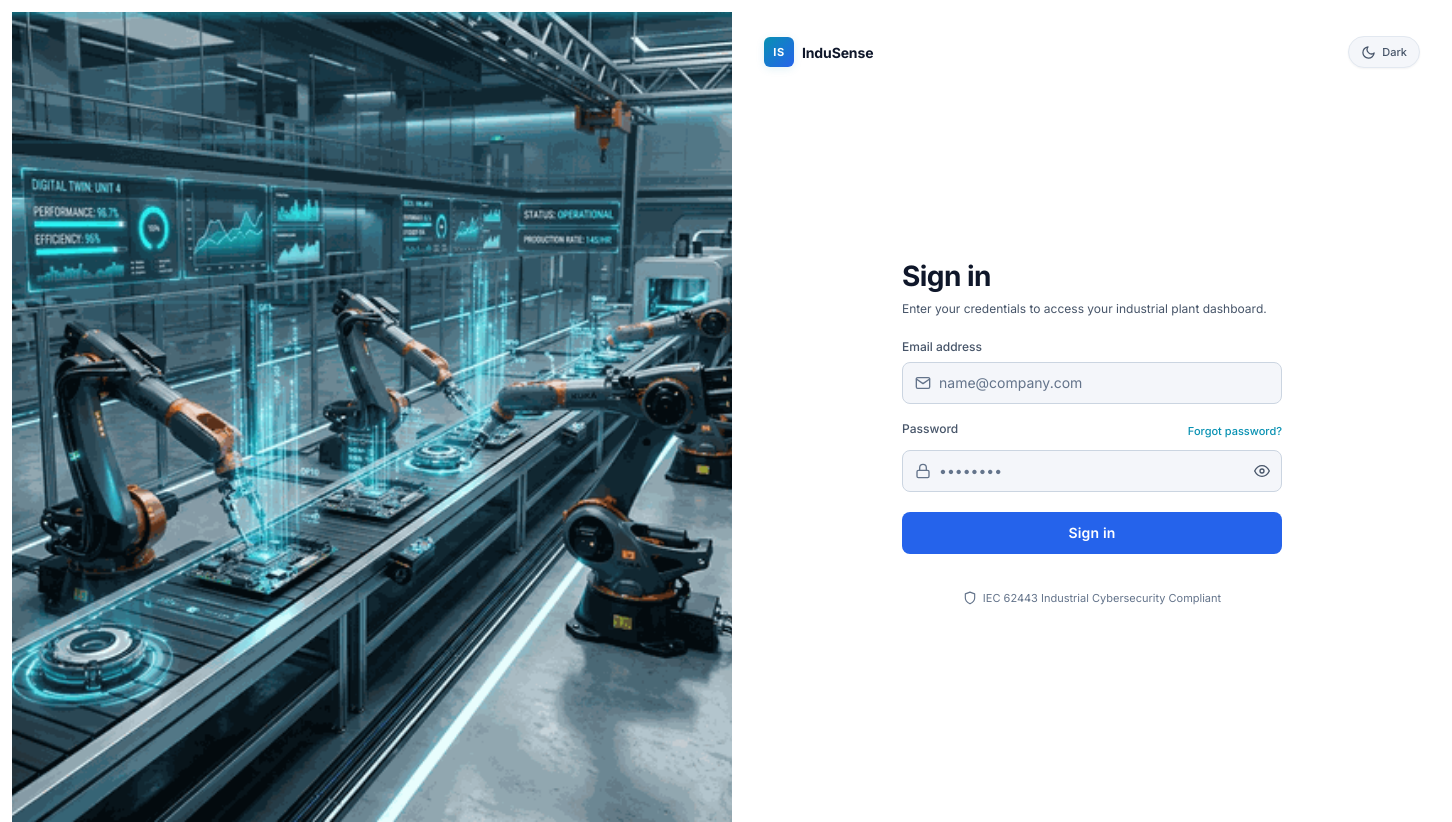
Test: LoginPageComponent › rejects a malformed email
Type "not-an-email" into the field with id "login-email". click: coordinates (1106, 382)
box: [931, 362, 1281, 402]
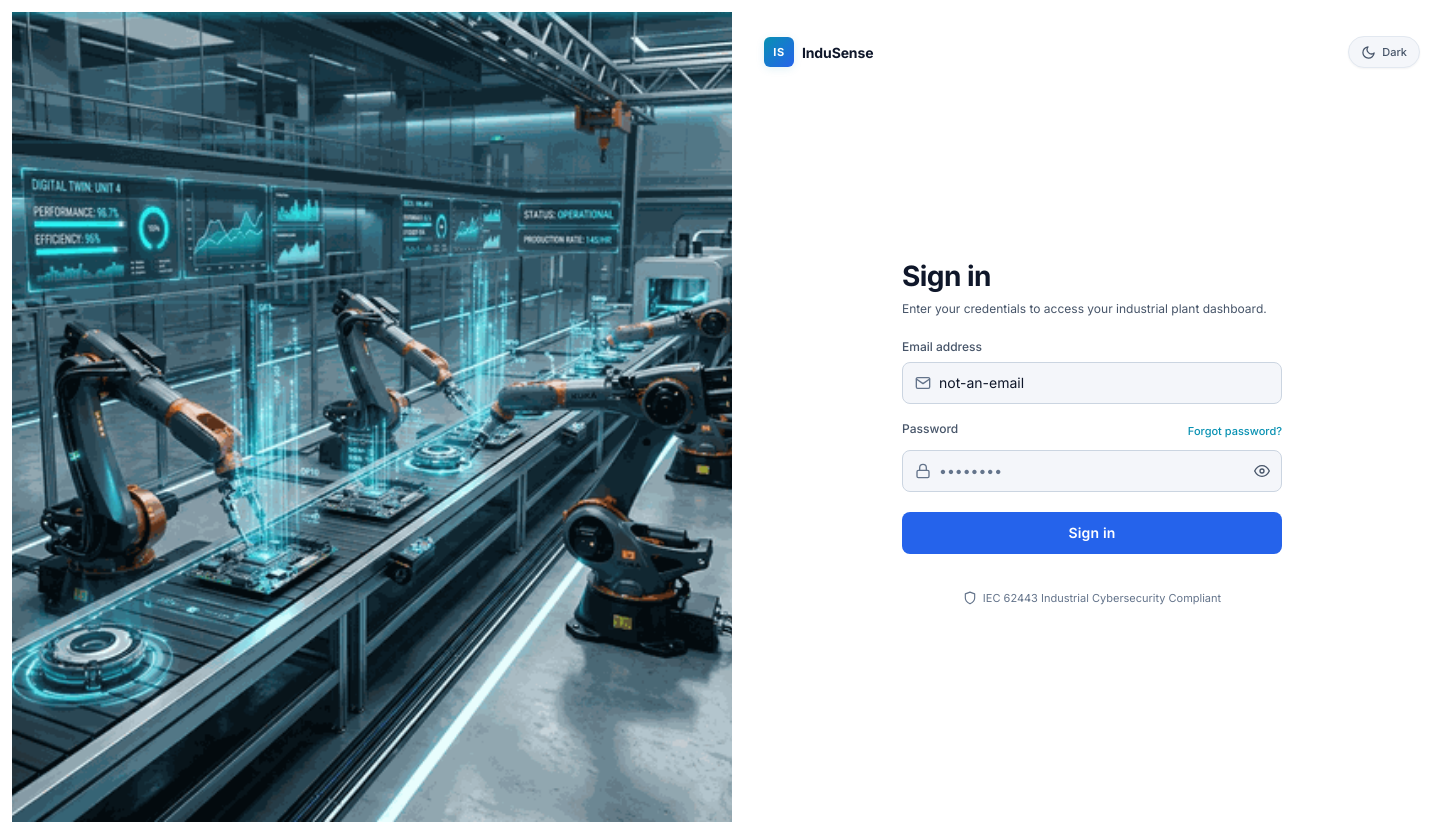
Type "x" into the password field with id "login-password". click: coordinates (1087, 470)
box: [931, 450, 1243, 490]
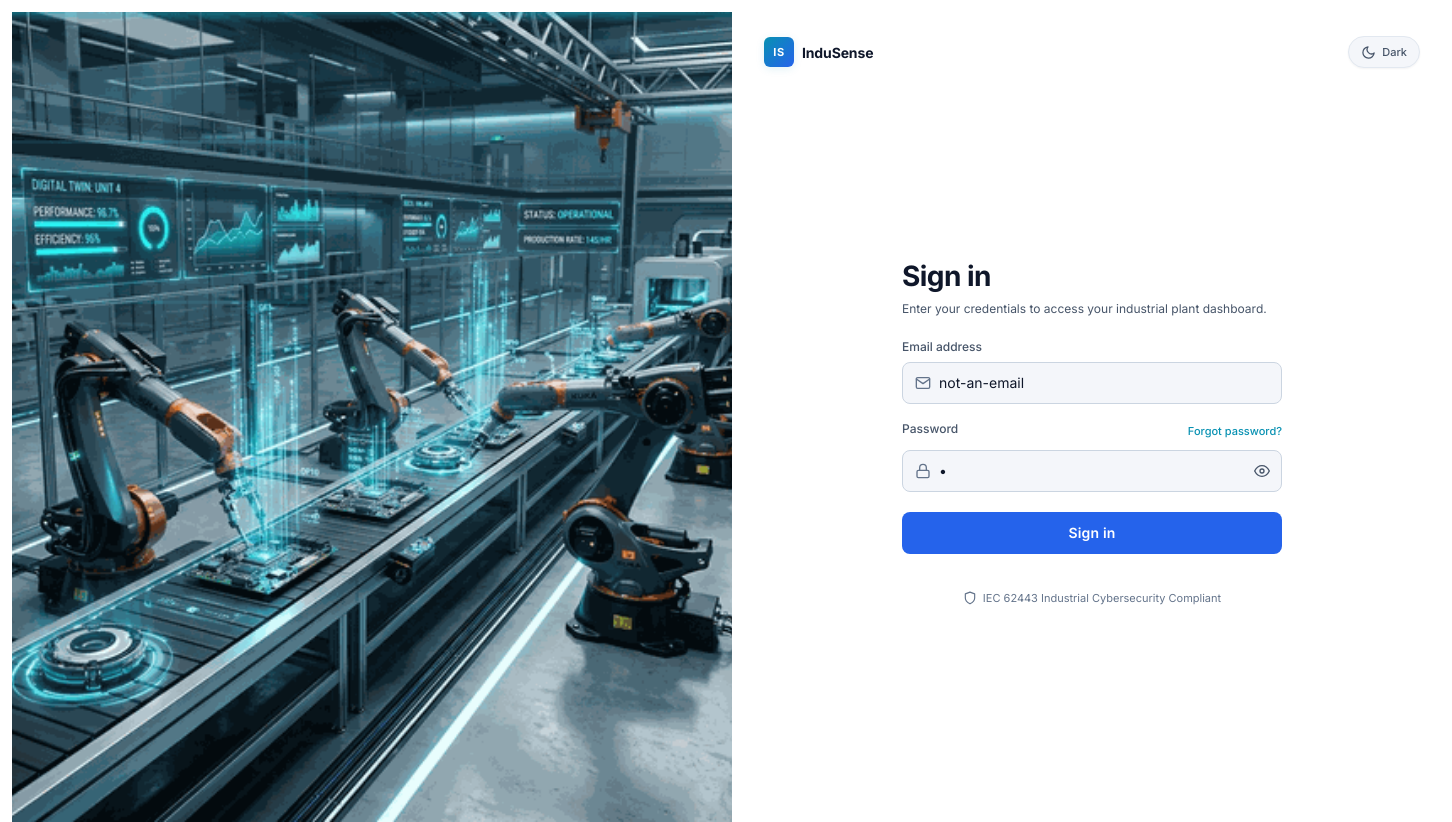
Click the submit button. click: coordinates (1092, 532)
box: [902, 512, 1282, 554]
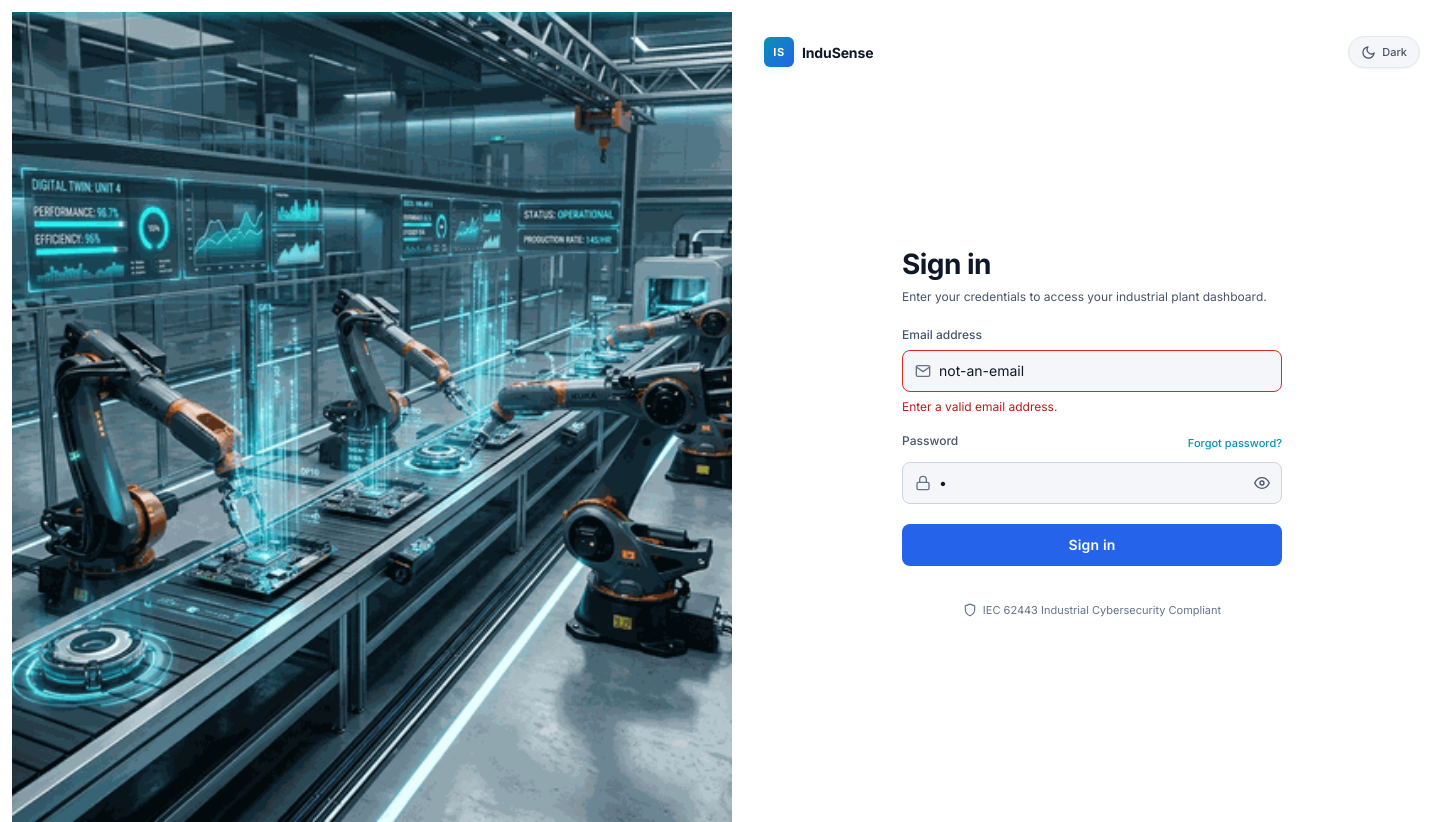
Expected: the text with id "login-email-error" reads "Enter a valid email address.", [902, 398, 1057, 414]
